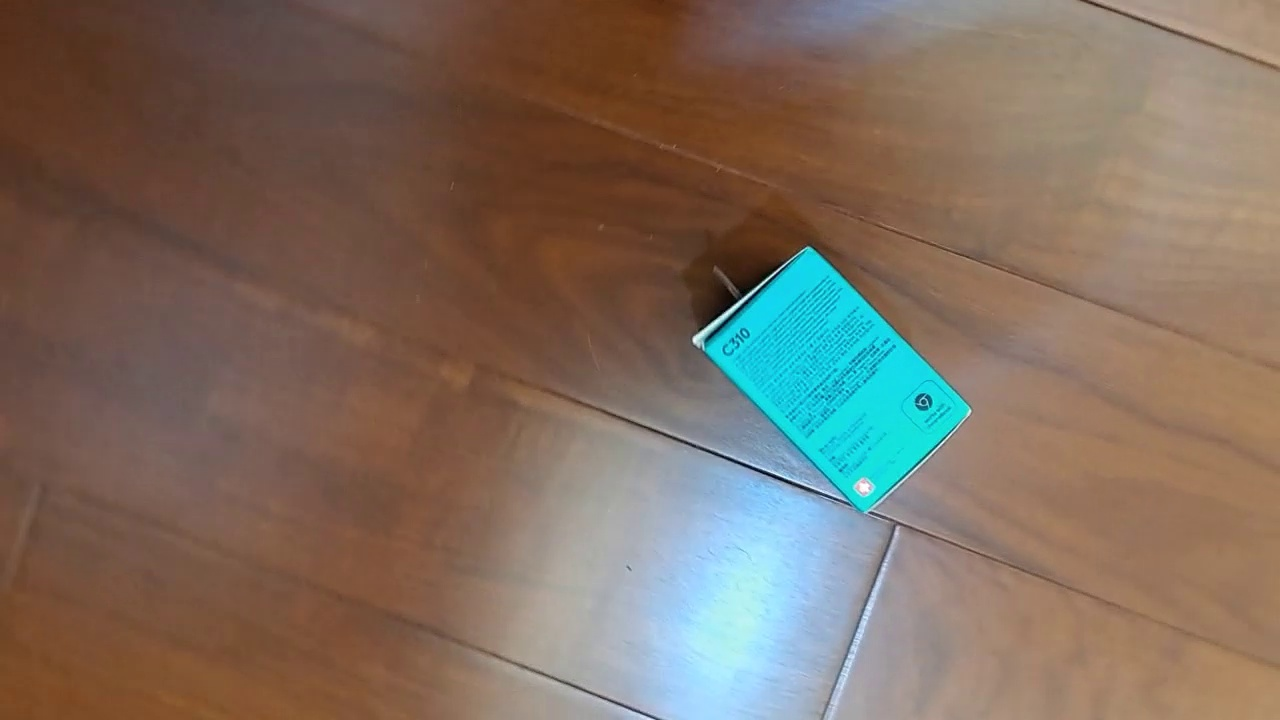webcam: (690, 243, 974, 515)
